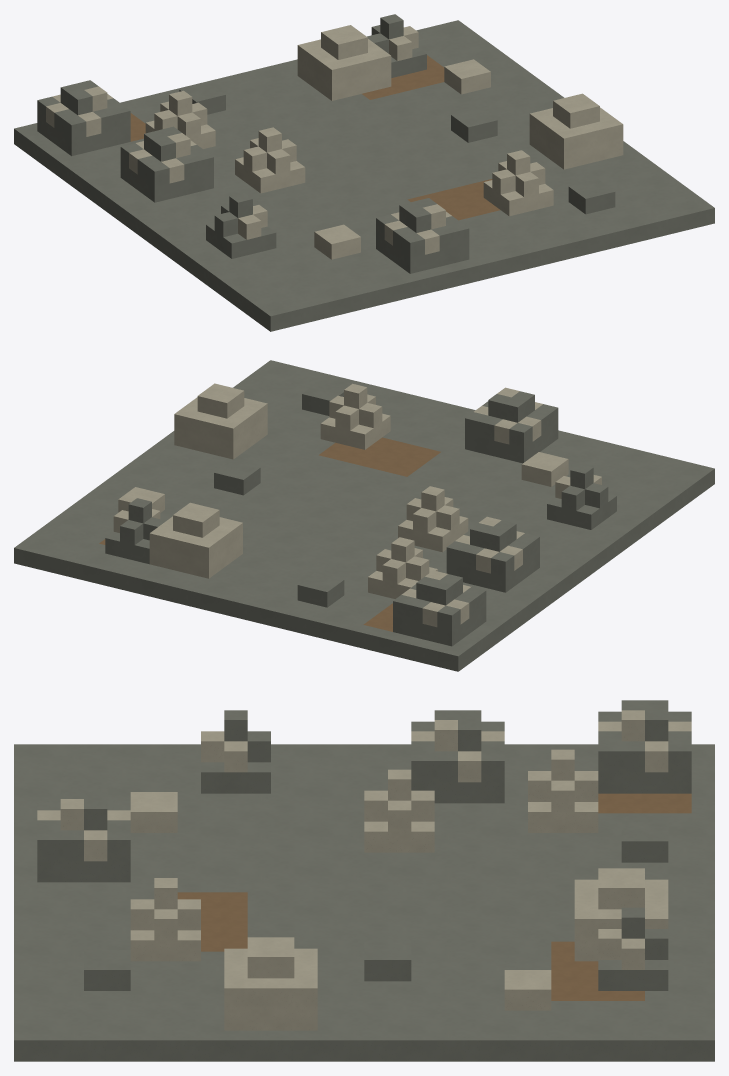
3 renders of one model, top to bottom at view 1: azimuth 30°, elevation 25°; view 2: azimuth 150°, elevation 25°; view 3: azimuth 270°, elevation 25°, orthographic. The views are drawn at different scales.
Parts seen in each view (by area): view 1: 近景0.2m量化碎石组件; view 2: 近景0.2m量化碎石组件; view 3: 近景0.2m量化碎石组件.
Boxes of the visible parts, x1=… form: 近景0.2m量化碎石组件: x1=14, y1=14, x2=714, y2=331; 近景0.2m量化碎石组件: x1=14, y1=360, x2=714, y2=671; 近景0.2m量化碎石组件: x1=14, y1=700, x2=714, y2=1061.
Bounding box in the file's own units: 6 × 0.8 × 6.
3 materials, 3 textured.
